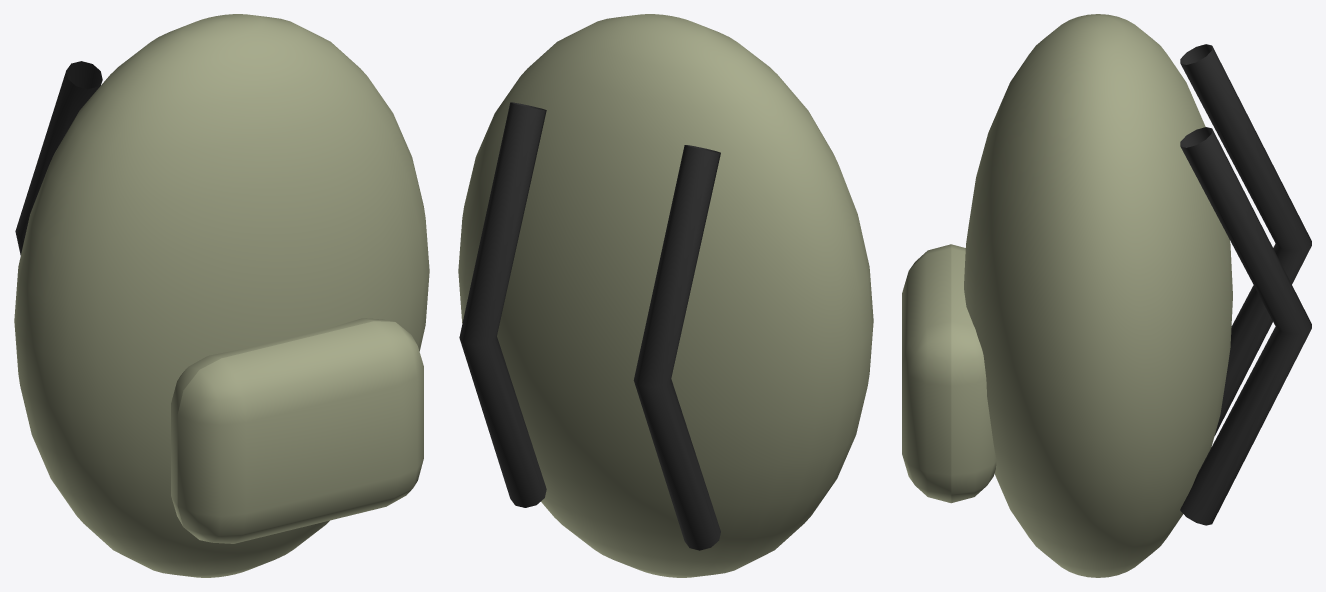
The model's file is backpack.glb.
3 renders of one model, left to right at view 1: azimuth 30°, elevation 25°; view 2: azimuth 150°, elevation 25°; view 3: azimuth 270°, elevation 25°, orthographic. The views are drawn at different scales.
Parts seen in each view (by area): view 1: bag, pocket, strap-0.08; view 2: bag, strap0.08, strap-0.08; view 3: bag, pocket, strap0.08, strap-0.08.
Part boxes in pixels (box(x1,y1,x2,y2)): bag: box(14, 14, 429, 577); pocket: box(171, 318, 423, 543); strap-0.08: box(15, 61, 102, 255); bag: box(458, 14, 873, 577); strap0.08: box(459, 102, 546, 507); strap-0.08: box(633, 145, 720, 550); bag: box(964, 14, 1232, 577); pocket: box(902, 244, 996, 503); strap0.08: box(1180, 127, 1311, 525); strap-0.08: box(1180, 44, 1311, 435).
Bounding box in the file's own units: 0.36 × 0.48 × 0.3343.
